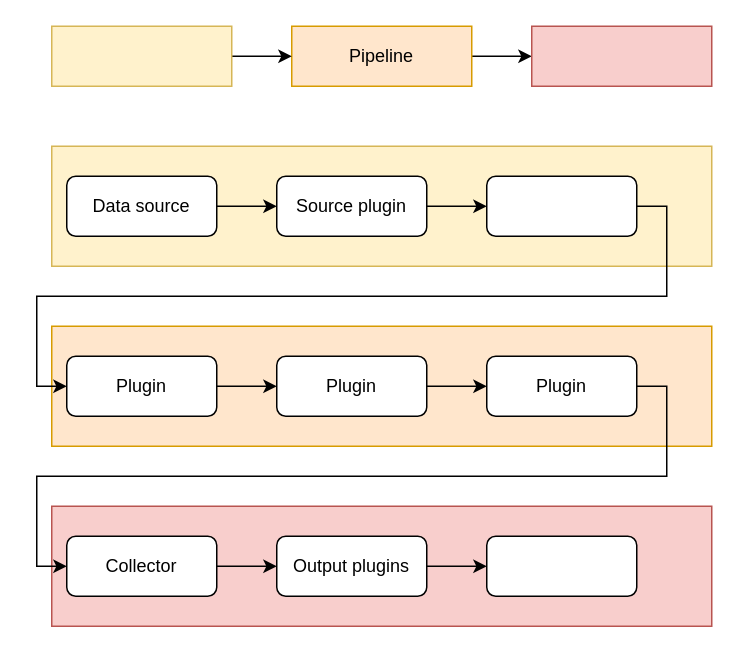
The diagram is 738 pixels wide and 653 high, and some of its shapes have lost their labels. The shapes that lost their labels are listed below. From the top down, each one's centre as x and y in pixels, then its label:
(141,55): Source
(621,55): Output
(561,205): Consumer
(561,565): Outputs
